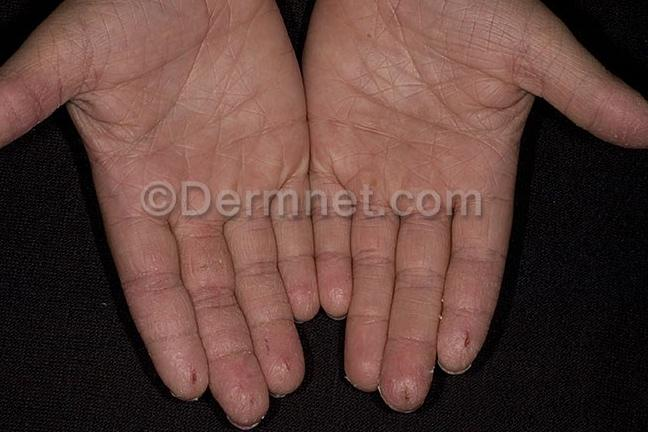excoriacion 1: (382, 367, 428, 408)
exudacion 1: (188, 358, 201, 384), (459, 324, 473, 347)
liquenificacion 1: (0, 0, 648, 430)
xerosis 1: (118, 237, 505, 418)
